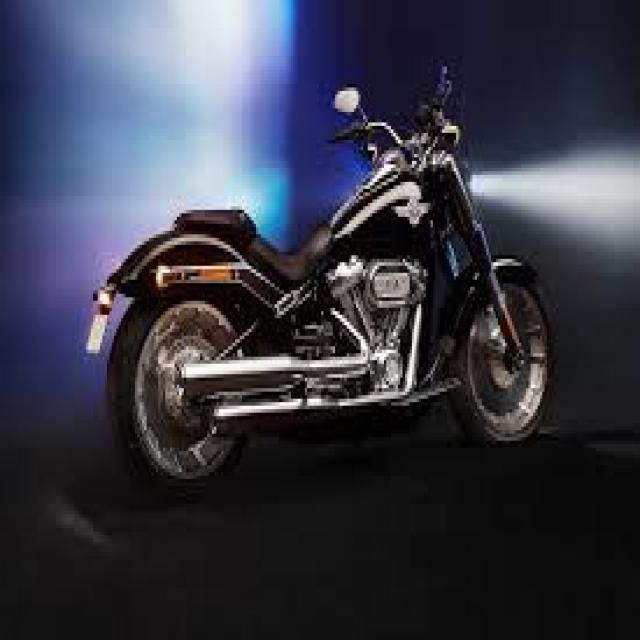Bike: (86, 64, 557, 502)
